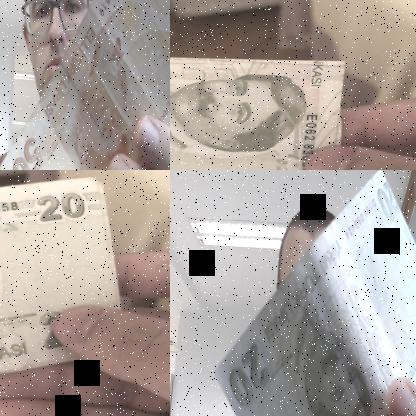5 TL: (0, 0, 169, 169)
